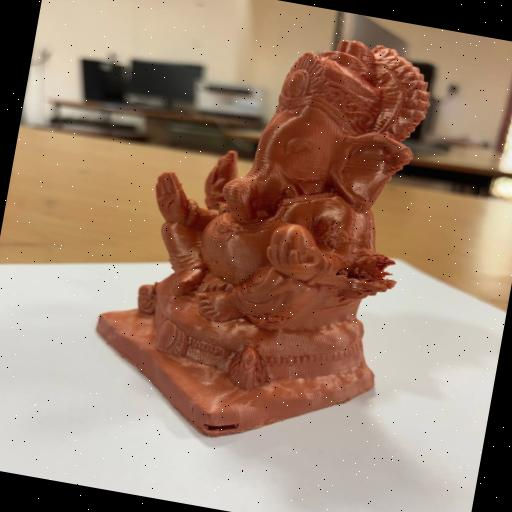cracks: (330, 240, 411, 312), (188, 408, 248, 442)
